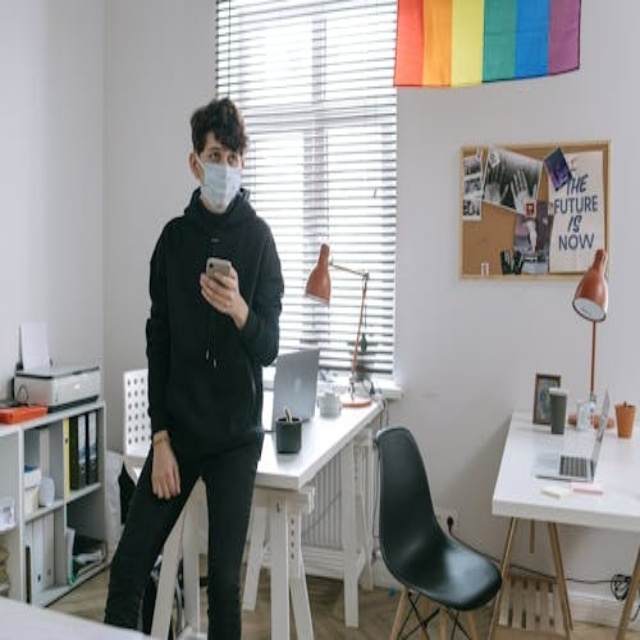Mascara: (197, 157, 243, 211)
Sin_gafas: (200, 150, 244, 168)
Sin_guantes: (198, 261, 247, 315), (150, 439, 181, 501), (510, 170, 534, 217)
